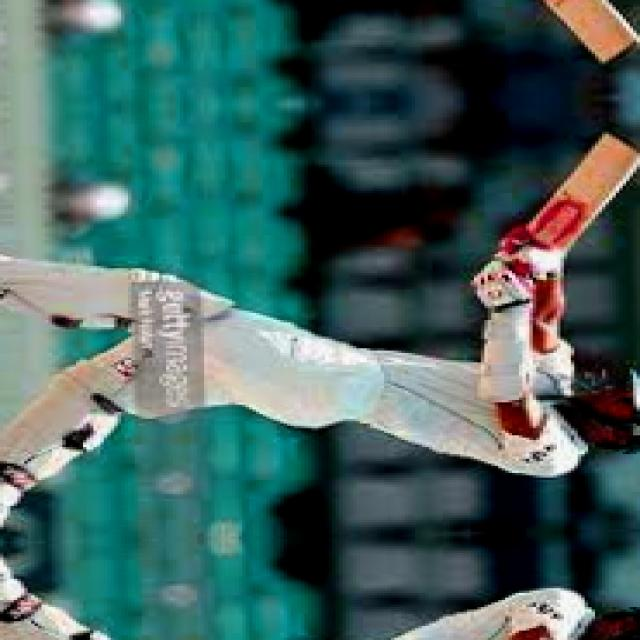toe: (595, 130, 640, 159)
